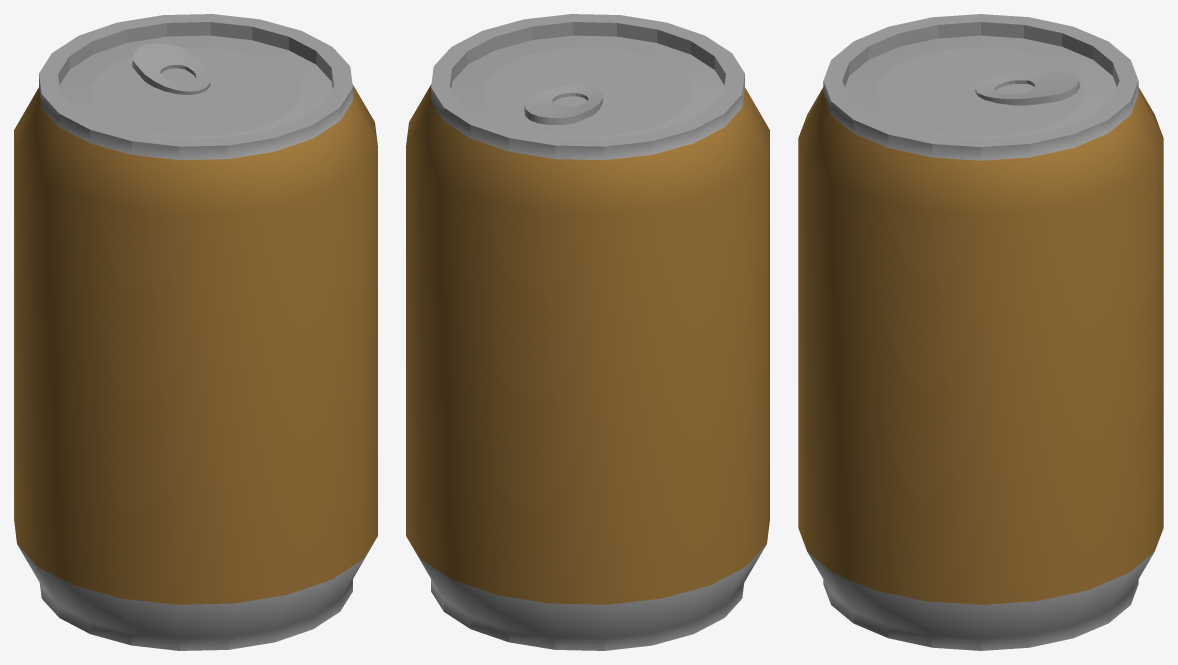
Rendered from DRINK CAN orange.fbx.
3 renders of one model, left to right at view 1: azimuth 30°, elevation 25°; view 2: azimuth 150°, elevation 25°; view 3: azimuth 270°, elevation 25°, orthographic.
Visible parts, largest first — view 1: pCylinder1, pCylinder2; view 2: pCylinder1, pCylinder2; view 3: pCylinder1, pCylinder2.
Part boxes in pixels (<box>): pCylinder1: <box>14,14,377,650</box>; pCylinder2: <box>132,43,210,94</box>; pCylinder1: <box>406,14,769,650</box>; pCylinder2: <box>524,85,602,125</box>; pCylinder1: <box>798,14,1163,650</box>; pCylinder2: <box>975,70,1079,105</box>.
Size of the model in its own units: 0.02 by 0.0304 by 0.02.
